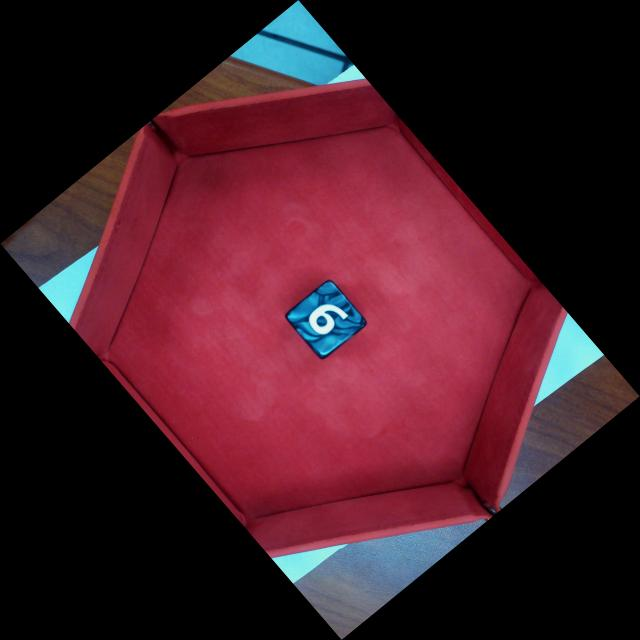dice: (282, 278, 370, 362)
